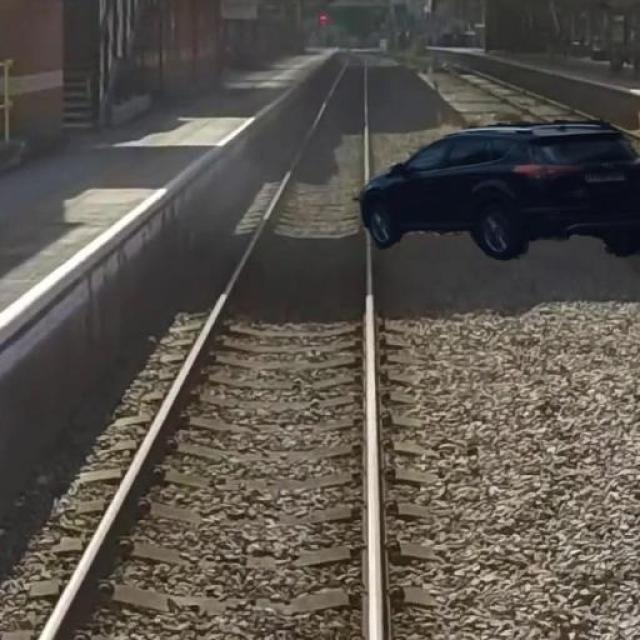vehicle: (352, 114, 640, 272)
